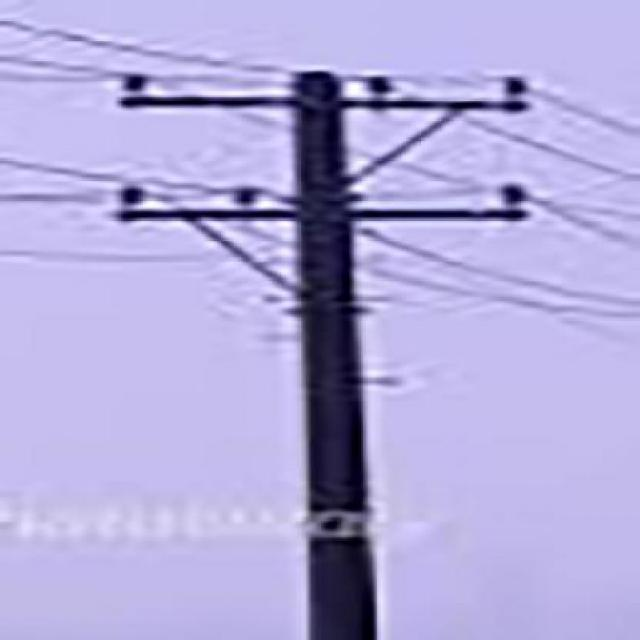pole: (92, 60, 550, 640)
